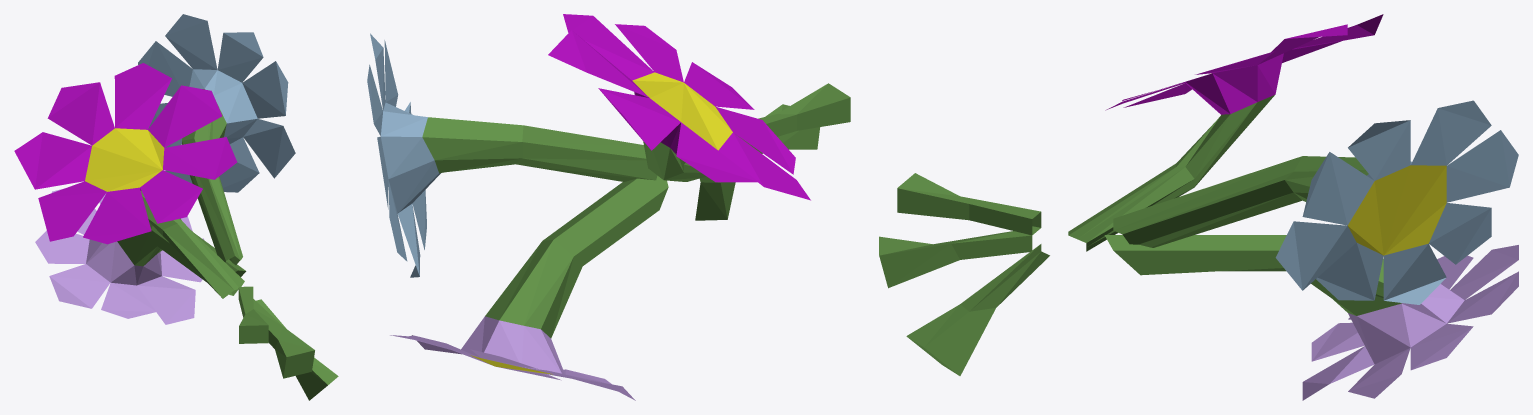
Rendered from itm_model0_flowers_9.obj.
The picture shows the model from 3 angles, left to right: view 1: azimuth 30°, elevation 25°; view 2: azimuth 150°, elevation 25°; view 3: azimuth 270°, elevation 25°; orthographic projection. The views are drawn at different scales.
Size of the model in its own units: 0.375 by 0.3281 by 0.5547.
